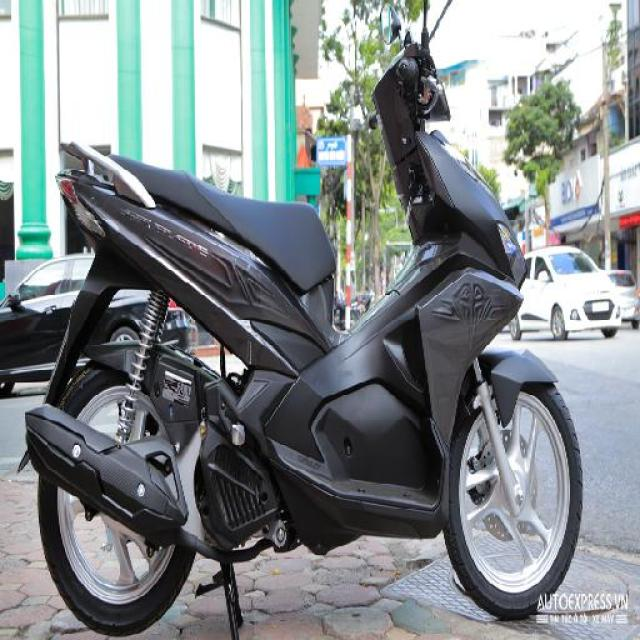All: (14, 21, 588, 639)
Head: (362, 41, 458, 138)
Tail: (48, 128, 142, 235)
